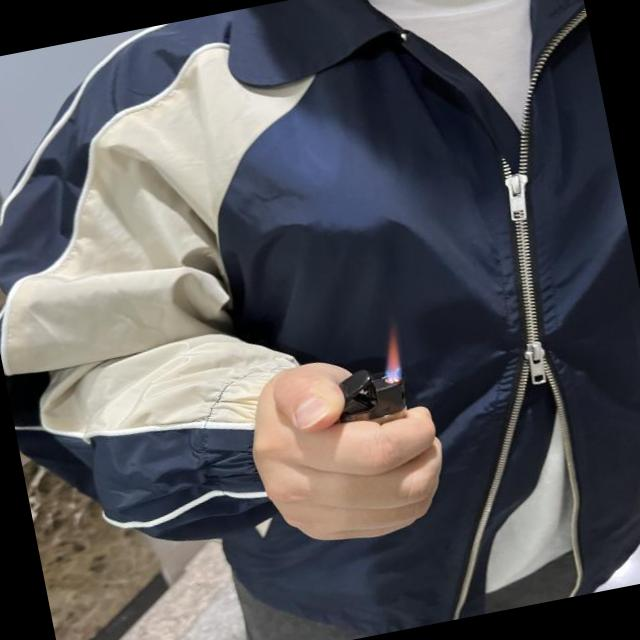Fire: (376, 334, 406, 377)
